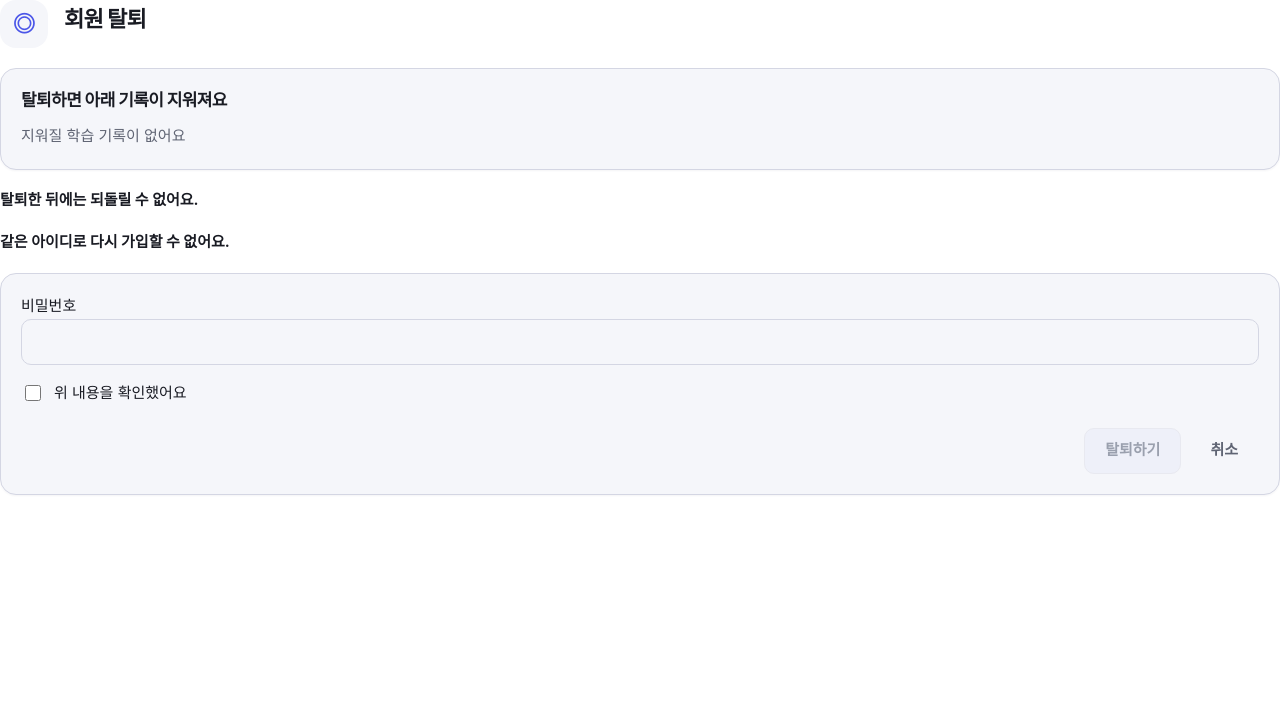
지울 것이 없을 때의 확인 모달 (B-L2) › '0개'라고 말하지 않는다
Type "1234" into the password field labelled "비밀번호". click: (640, 342)
box: [21, 319, 1259, 365]
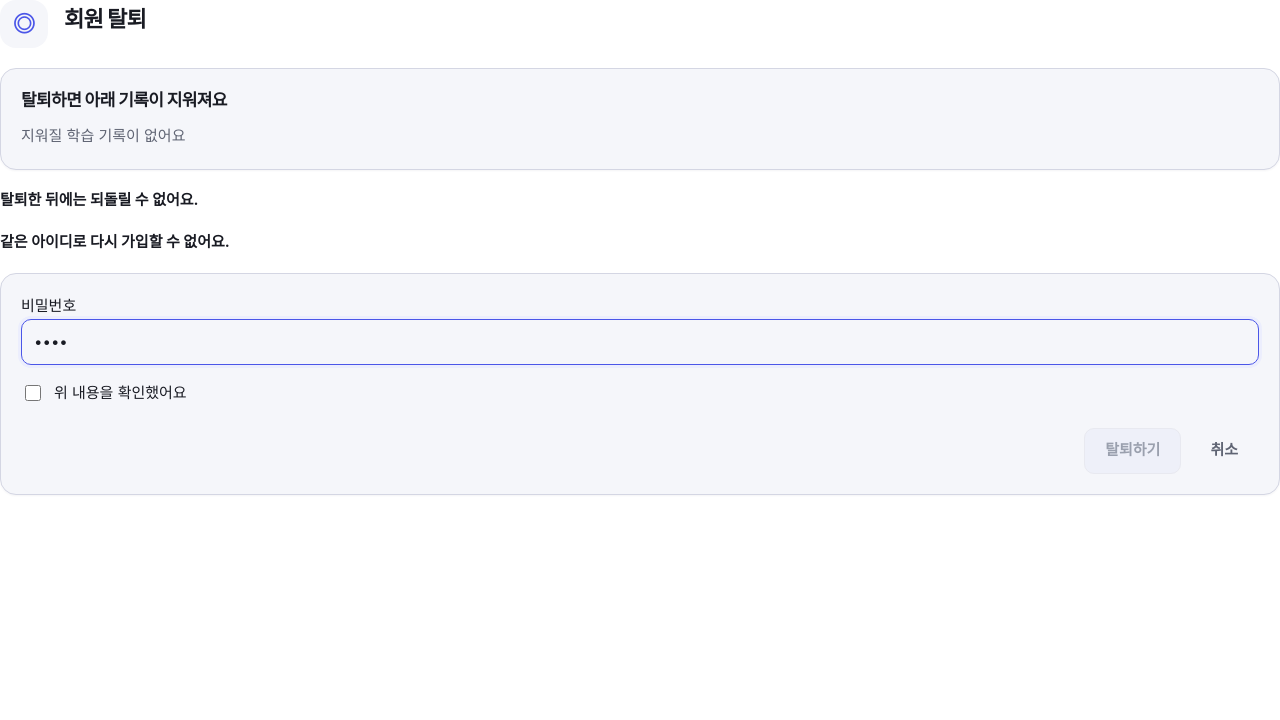
Click the checkbox labelled "위 내용을 확인했어요". click: (33, 393)
box: [25, 385, 41, 401]
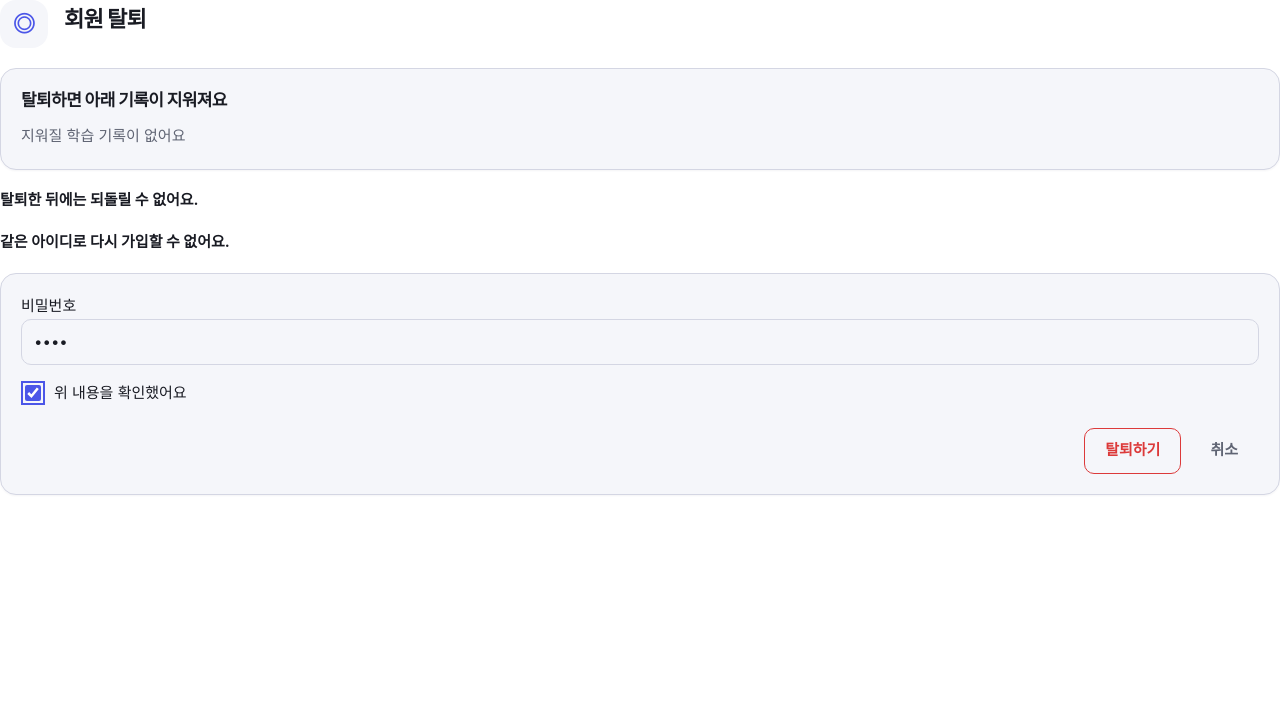
Click the button "탈퇴하기". click: (1133, 451)
box: [1084, 428, 1181, 474]
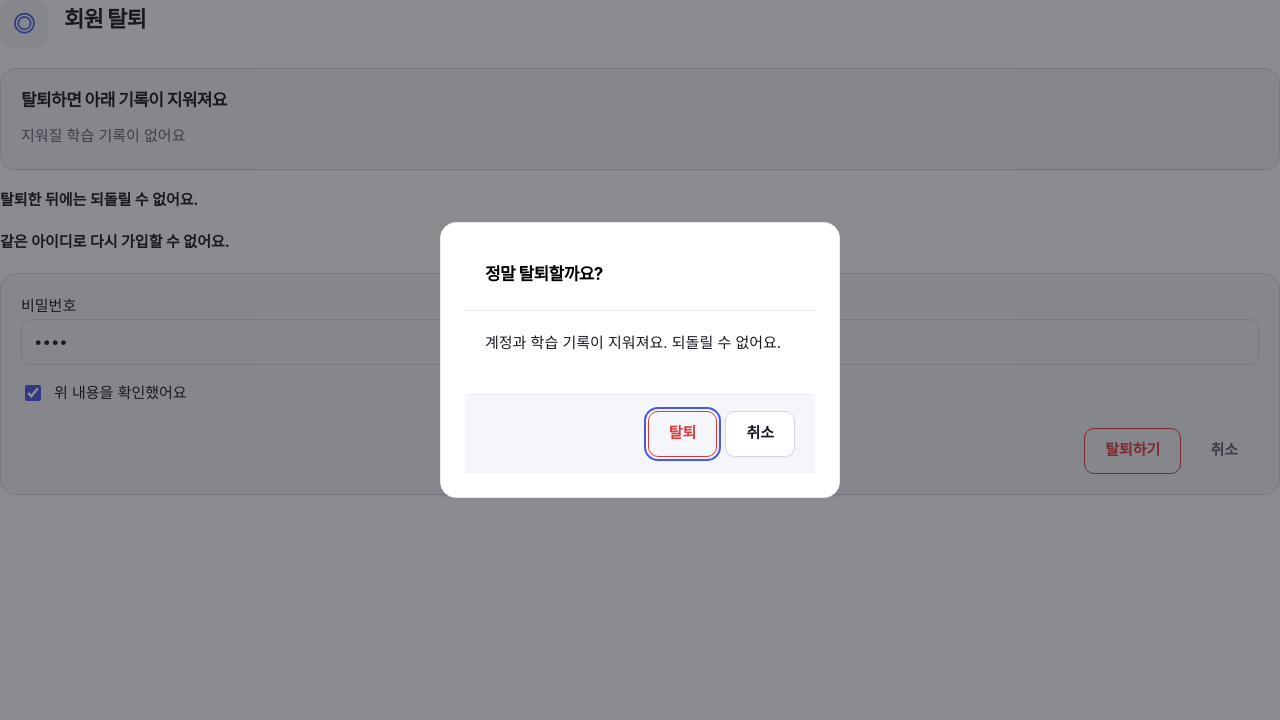
Result: the heading "정말 탈퇴할까요?" is shown at [485, 263, 603, 286]
